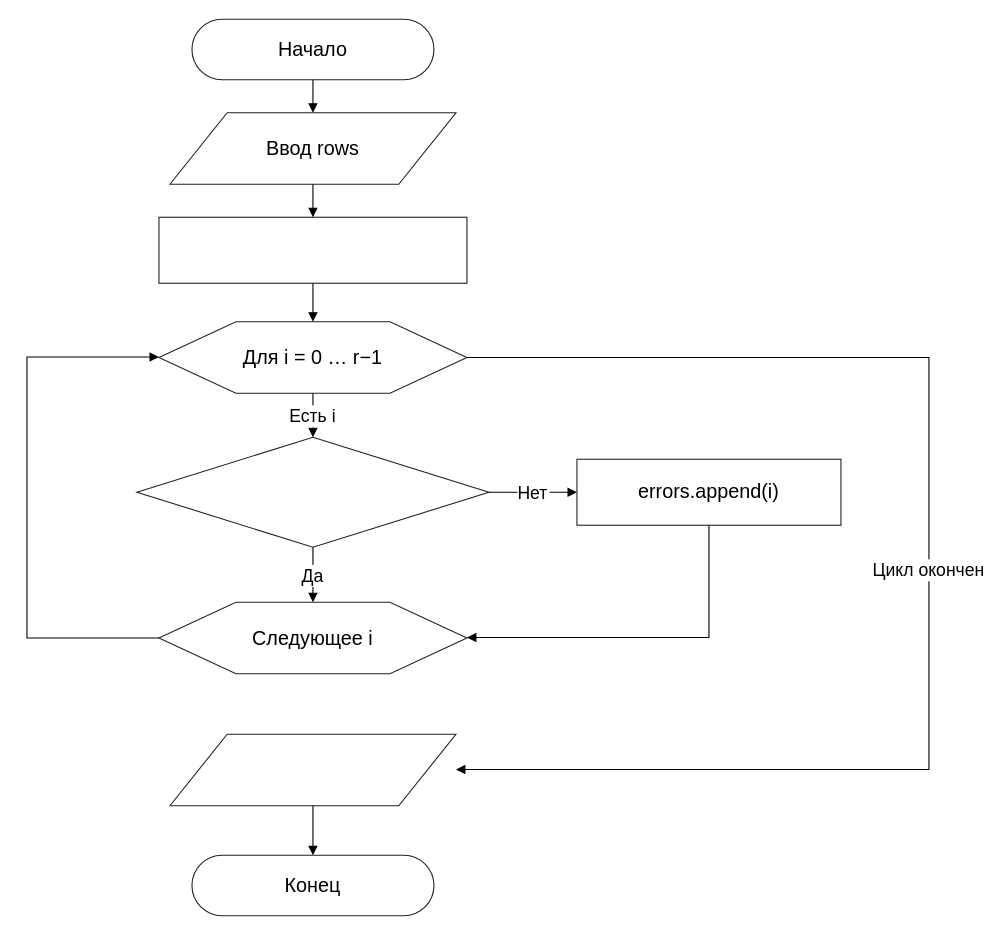
Some shapes in this 1005 by 935 pixel diagram are drawn without their labels. Here are the shapes that lost their labels. From the top down, the centre of each, then its label:
point 312,249: errors = []; i = 0
point 312,491: valid_measurement (rows[i])?
point 312,769: Вывод errors
